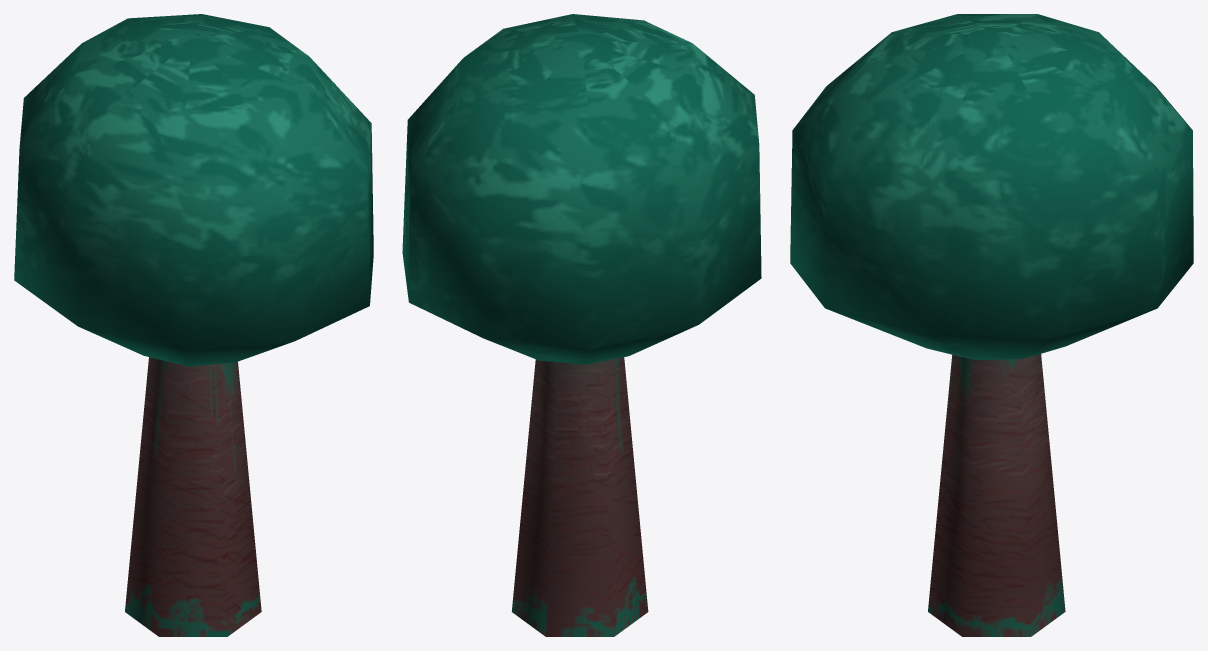
File: tree_2.fbx
The picture shows the model from 3 angles, left to right: view 1: azimuth 30°, elevation 25°; view 2: azimuth 150°, elevation 25°; view 3: azimuth 270°, elevation 25°; orthographic projection.
Parts seen in each view (by area): view 1: tree2; view 2: tree2; view 3: tree2.
Boxes of the visible parts, x1,y1,x2,y2 form: tree2: (14,14,373,636); tree2: (402,14,761,636); tree2: (790,14,1193,636).
Size of the model in its own units: 295 by 464 by 252.
Materials: 1 (1 with a texture image).
